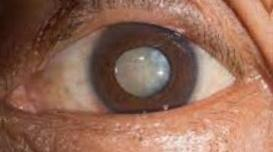eye: (92, 21, 199, 112)
